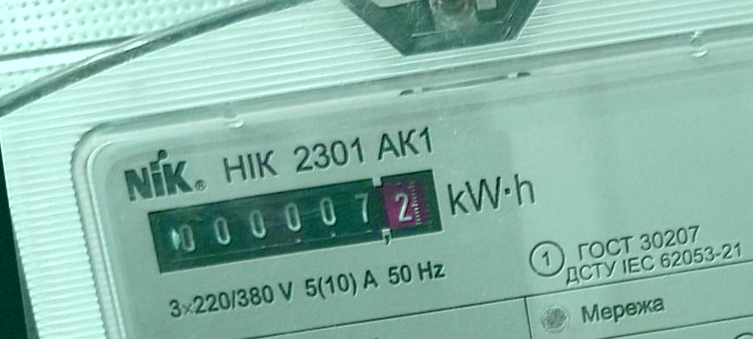0: (243, 203, 272, 244), (174, 218, 201, 256), (281, 198, 306, 238), (314, 192, 340, 230), (210, 212, 235, 249)
2: (391, 188, 417, 226)
7: (350, 188, 376, 228)
screen: (141, 160, 453, 282)
